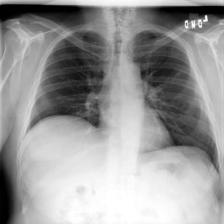normal: (21, 20, 223, 176)
